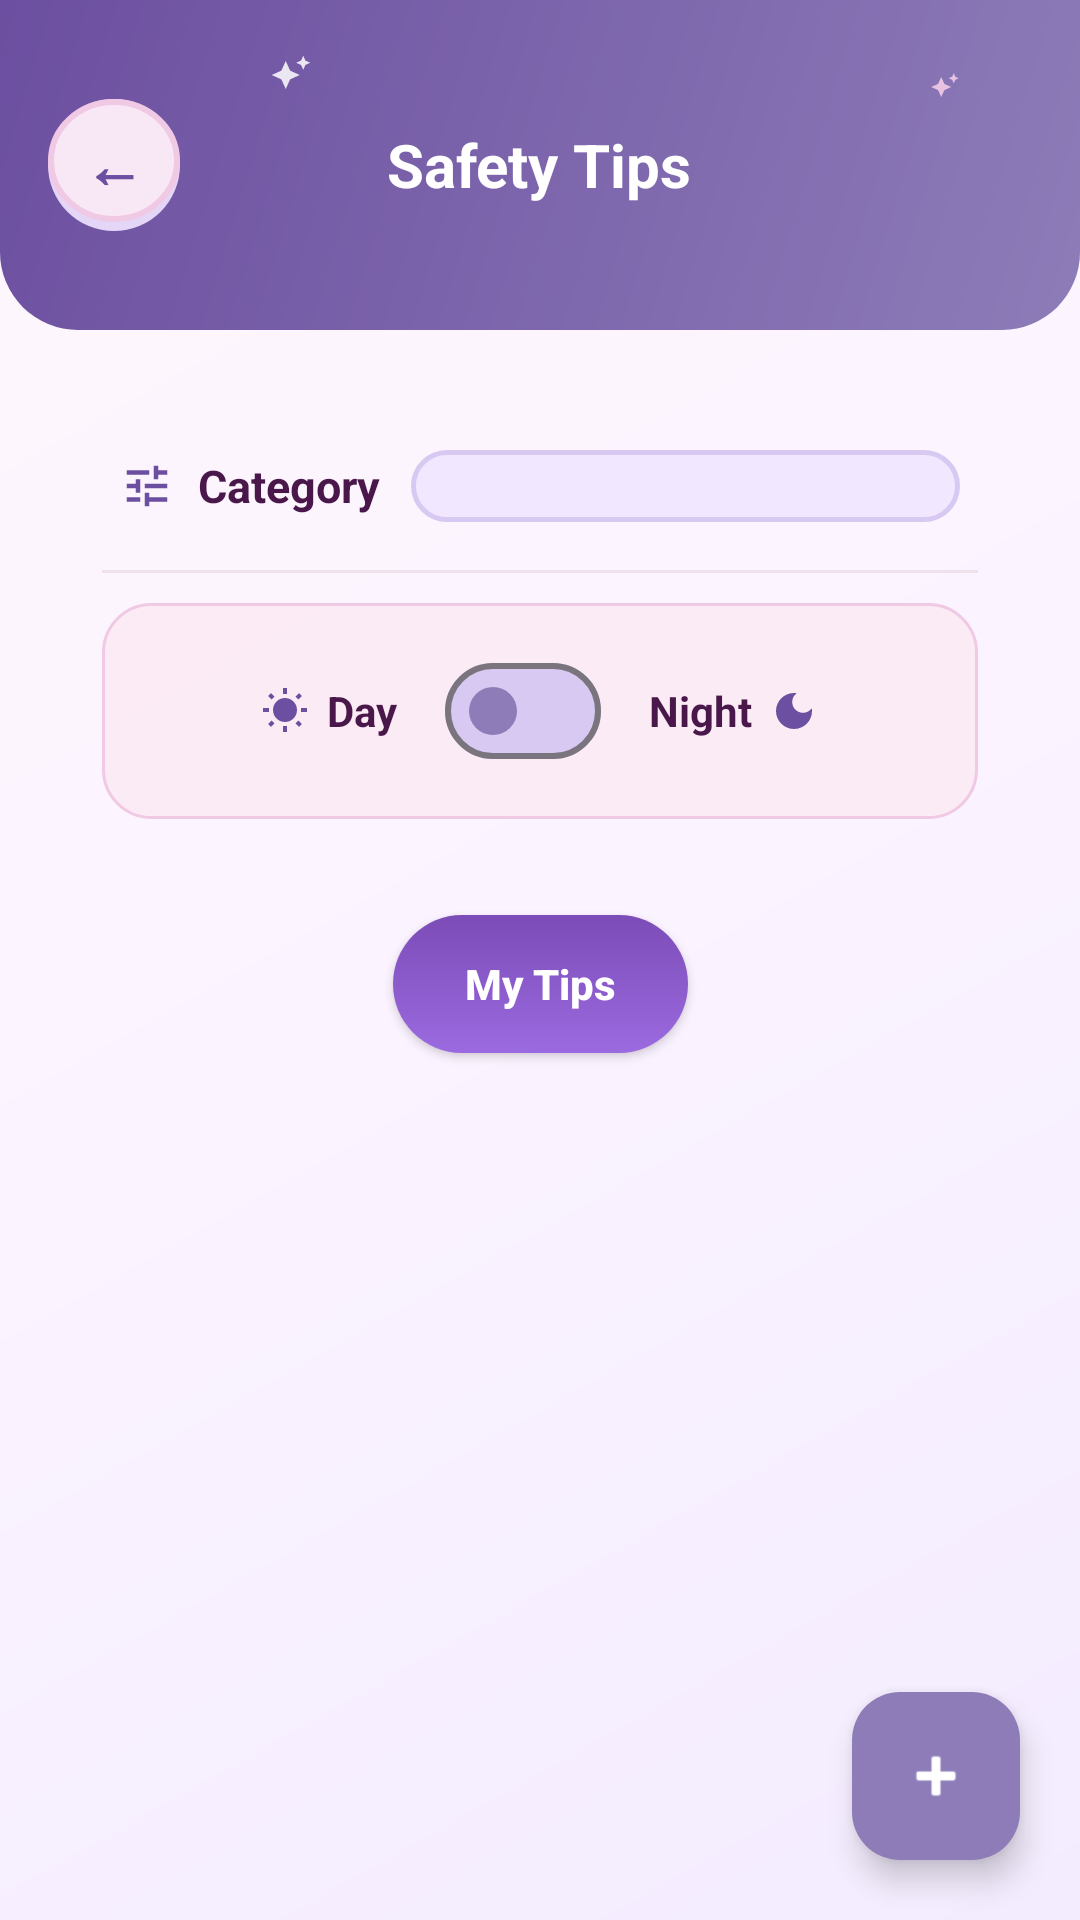

Where to tap for icons on this 1080x1920 app screen, as point (x, y):
add: point (936, 1776)
rgr moon: point (794, 711)
rgr sun: point (285, 710)
rgr tune: point (147, 486)
sparkle star: point (291, 72), point (945, 85)
